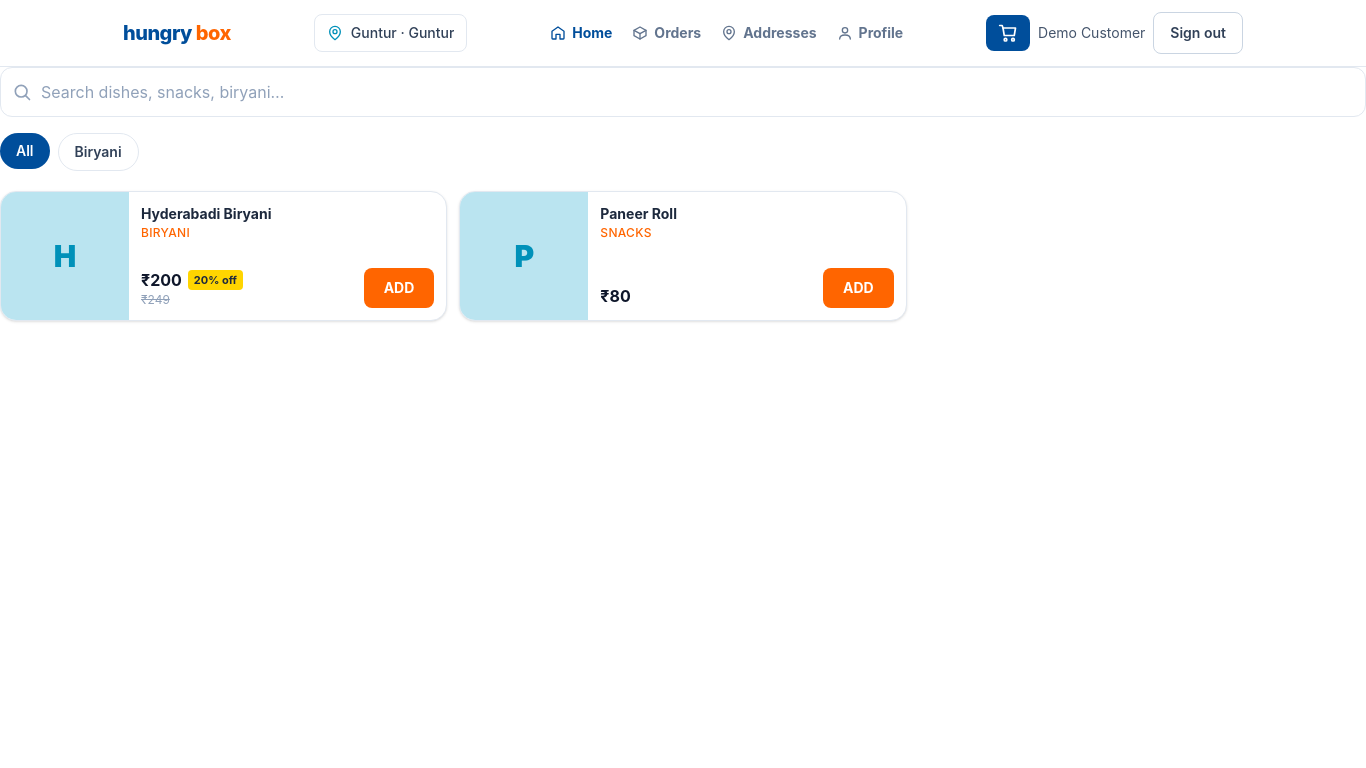
storefront browsing › opens product details from a card
What coordinates should you click on to do the following:
click the button named "View Hyderabadi Biryani"
I would click on:
 (65, 256)
Its box is [1,192,129,320].
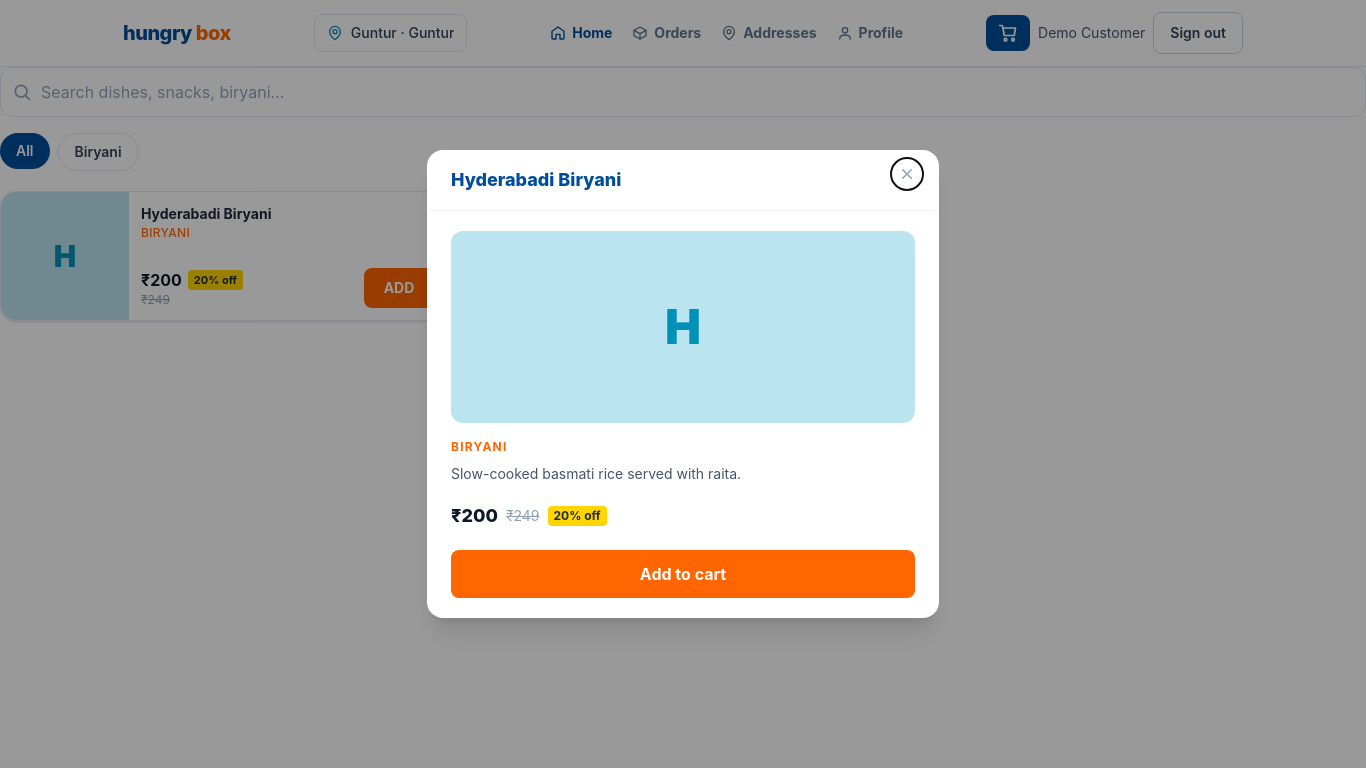
Result: the text "Slow-cooked basmati rice served with raita." is shown at [451,465,741,482]
Result: the button "Add to cart" is shown at [451,550,915,598]
